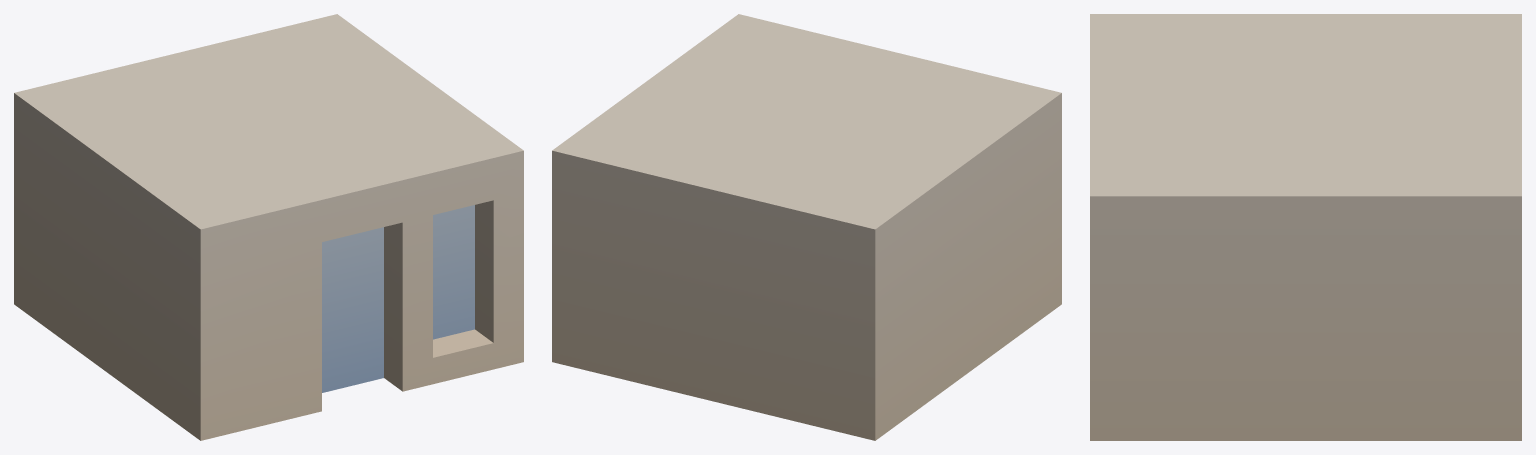
File: building-door-window-narrow.glb
The picture shows the model from 3 angles, left to right: view 1: azimuth 30°, elevation 25°; view 2: azimuth 150°, elevation 25°; view 3: azimuth 270°, elevation 25°; orthographic projection. The views are drawn at different scales.
Parts seen in each view (by area): view 1: building-door-window-narrow; view 2: building-door-window-narrow; view 3: building-door-window-narrow.
Part boxes in pixels (x1,y1,x2,y2): building-door-window-narrow: [14, 14, 523, 440]; building-door-window-narrow: [552, 14, 1061, 440]; building-door-window-narrow: [1090, 14, 1521, 440].
Bounding box in the file's own units: 1 × 0.625 × 1.
